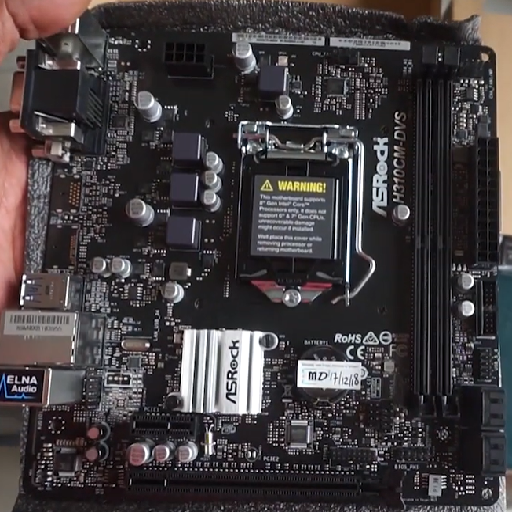CPU: (233, 120, 361, 307)
GPU: (121, 461, 391, 502)
MOTHERBOARD: (18, 4, 509, 507)
RAM: (404, 46, 462, 421)
